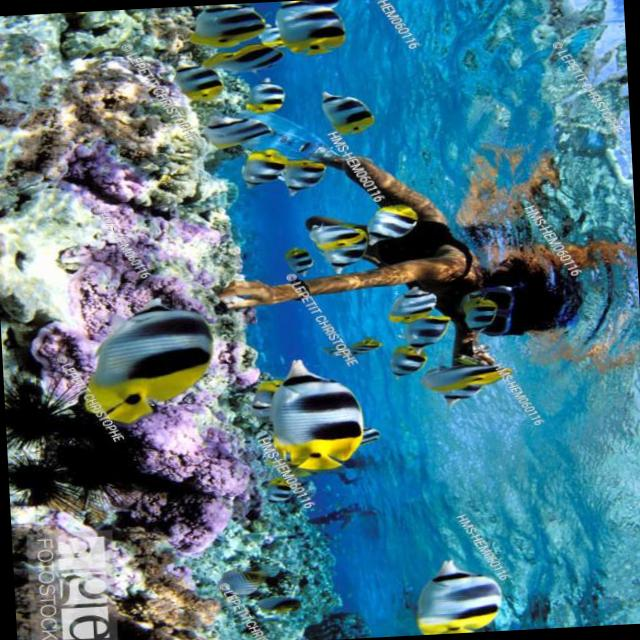ButterflyFish: (72, 284, 220, 434), (238, 346, 360, 495), (354, 536, 502, 638), (426, 334, 522, 412), (157, 2, 282, 56), (307, 78, 389, 150), (279, 0, 359, 62), (292, 218, 386, 266), (452, 274, 518, 340), (264, 146, 338, 204), (224, 143, 286, 206), (364, 191, 428, 250), (386, 276, 441, 328), (172, 56, 218, 118), (216, 274, 277, 320), (242, 74, 282, 136), (393, 326, 434, 381), (332, 331, 384, 372), (393, 312, 452, 348), (269, 237, 317, 277)
